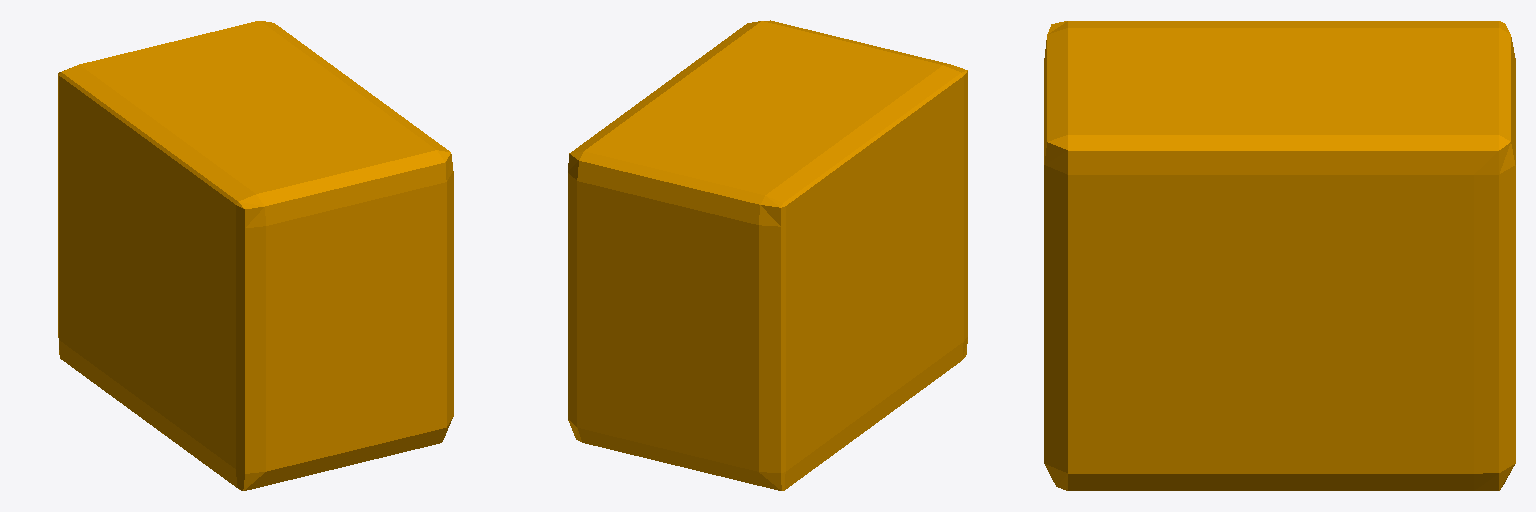
The robot description file, URDF, robot "cylinder_box_38":
<?xml version="1.0" encoding="utf-8"?>  <robot name="cylinder_box_38">   <link name="cylinder_box_38">     <visual>       <geometry>         <mesh filename="../meshes/box/box_38.stl" scale="1 1 1"/>       </geometry>     </visual>     <collision>       <geometry>         <mesh filename="../meshes/box/box_38.stl" scale="1 1 1"/>       </geometry>     </collision>     <inertial>        <origin         xyz="0 0 0"         rpy="0 0 0" />       <mass value="0.4248045483665197"/>       <origin rpy="0 0 0" xyz="0 0 0"/>       <inertia ixx="0.0005072277102697178" ixy="-3.5773256914841856e-07" ixz="-3.304829030924997e-07" iyy="0.0003331337669182945" iyz="-2.863634454832836e-08" izz="0.0004271116411653773"/>     </inertial>   </link>  </robot>

--- Facts derived from the render (not from the file) ---
3 views of the same robot in one strip: view 1: azimuth 30°, elevation 25°; view 2: azimuth 150°, elevation 25°; view 3: azimuth 270°, elevation 25° (orthographic).
Model cylinder_box_38 with 1 links and 0 joints (none), rooted at cylinder_box_38, posed every joint at zero.
Visible links, largest first — view 1: cylinder_box_38; view 2: cylinder_box_38; view 3: cylinder_box_38.
Boxes of the visible links, x1=… form: cylinder_box_38: x1=58, y1=21, x2=453, y2=490; cylinder_box_38: x1=568, y1=20, x2=967, y2=490; cylinder_box_38: x1=1044, y1=21, x2=1515, y2=490.
Size in the robot's own frame: 0.0602 by 0.0929 by 0.0768 metres.
1 mesh visuals loaded from 1 distinct referenced files (1 binary STL).